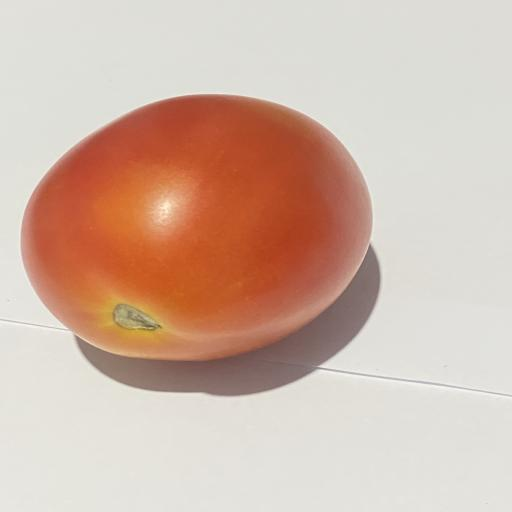ripe: (21, 94, 372, 360)
